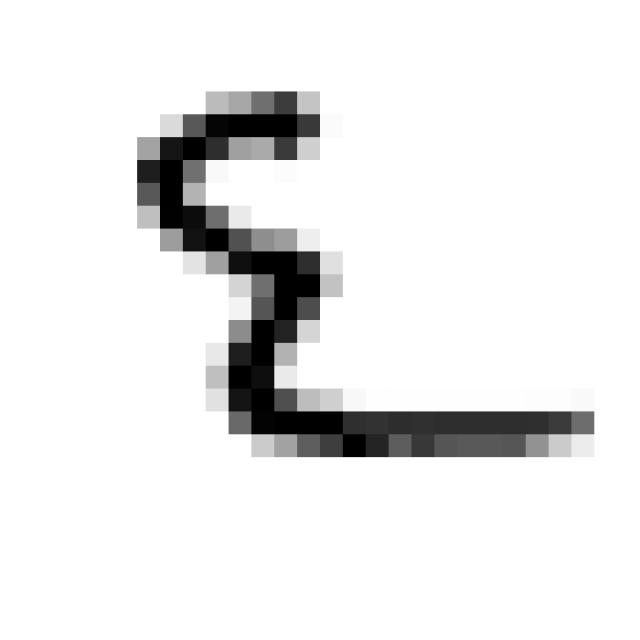4 -four-: (114, 78, 613, 468)
